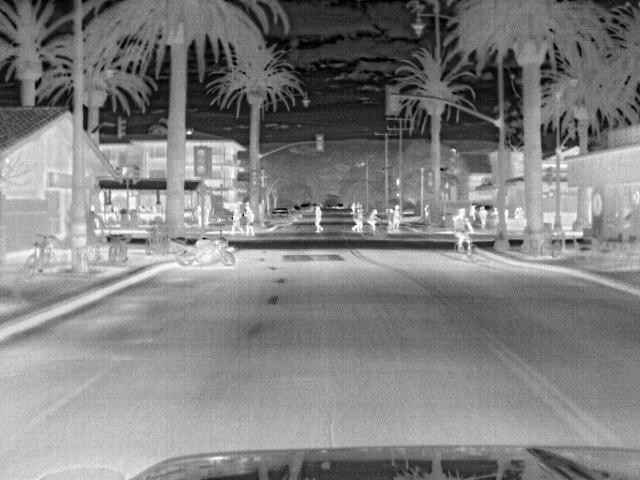car: (269, 207, 292, 226)
person: (450, 205, 480, 253), (243, 202, 259, 234), (349, 206, 369, 231), (228, 204, 243, 234), (367, 206, 382, 232), (311, 206, 326, 232), (390, 206, 405, 232), (478, 205, 490, 230)
